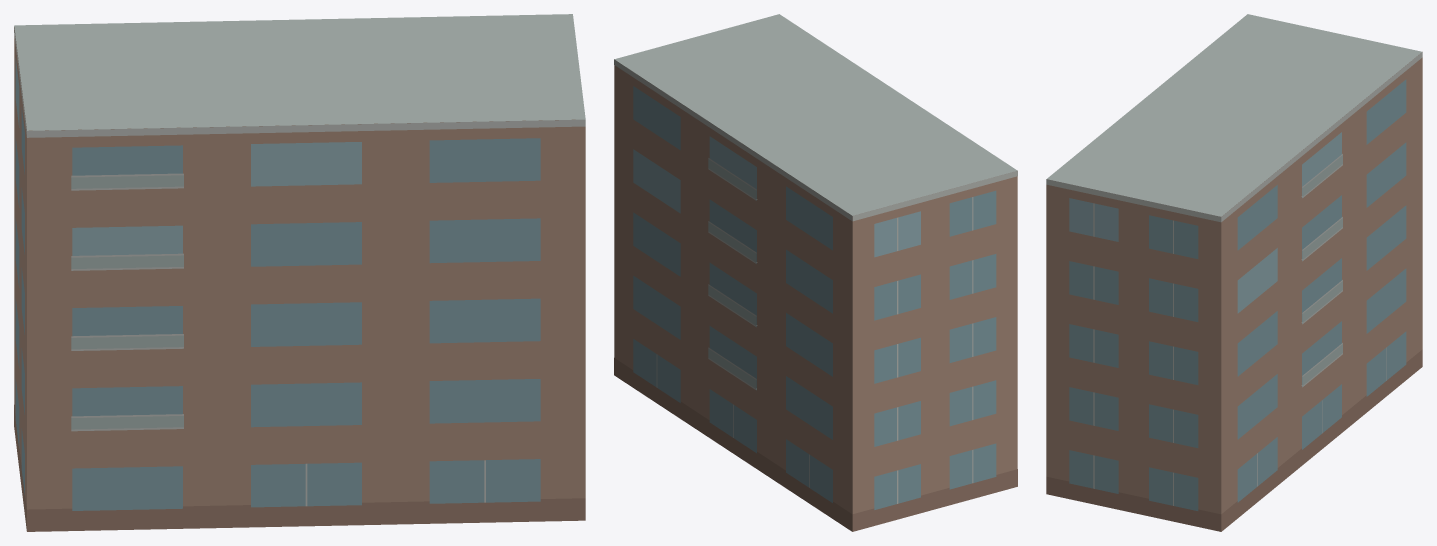
File: survey-upis-32659522.glb
The picture shows the model from 3 angles, left to right: view 1: azimuth 30°, elevation 25°; view 2: azimuth 150°, elevation 25°; view 3: azimuth 270°, elevation 25°; orthographic projection. The views are drawn at different scales.
Visible parts, largest first — view 1: survey-upis-32659522.tmp; view 2: survey-upis-32659522.tmp; view 3: survey-upis-32659522.tmp.
Boxes of the visible parts, left/top/right/bottom form: survey-upis-32659522.tmp: left=14, top=14, right=585, bottom=531; survey-upis-32659522.tmp: left=614, top=14, right=1017, bottom=531; survey-upis-32659522.tmp: left=1046, top=14, right=1422, bottom=531.
Bounding box in the file's own units: 19.2 × 13.9 × 15.05.
